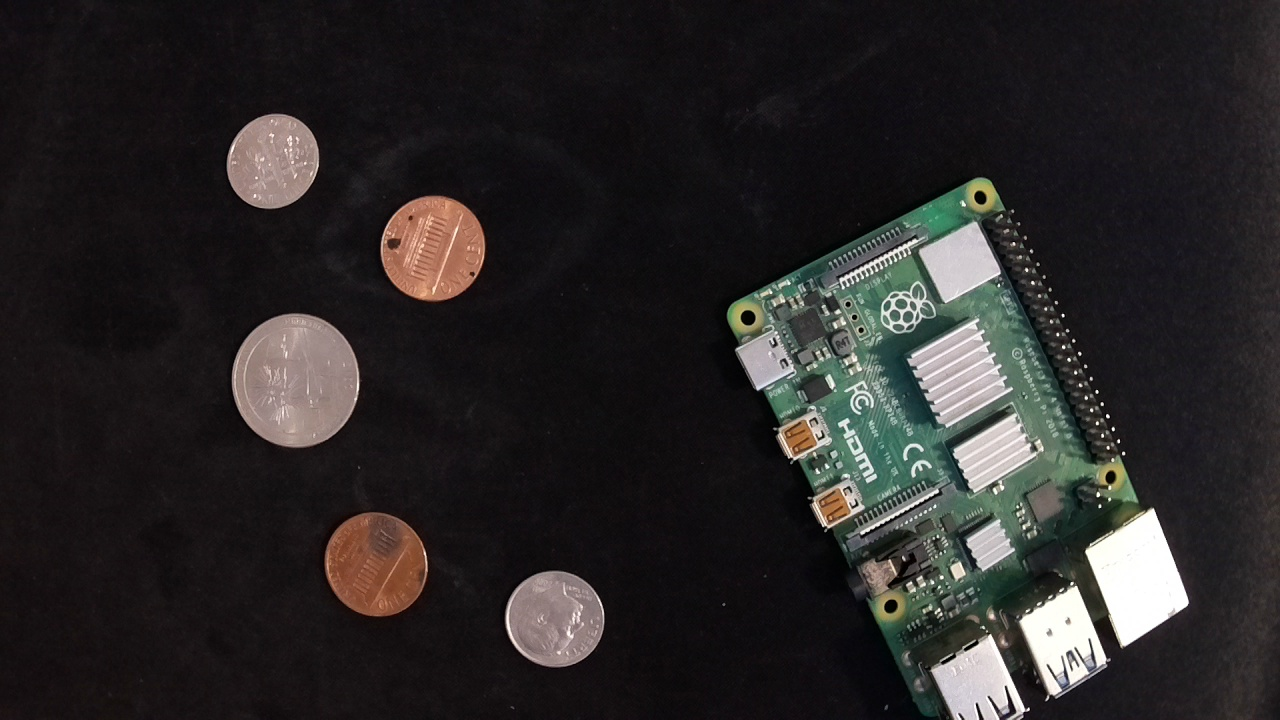dime: (502, 565, 608, 673), (222, 112, 324, 212)
penny: (374, 192, 490, 304), (321, 508, 433, 620)
quarter: (228, 308, 362, 452)
